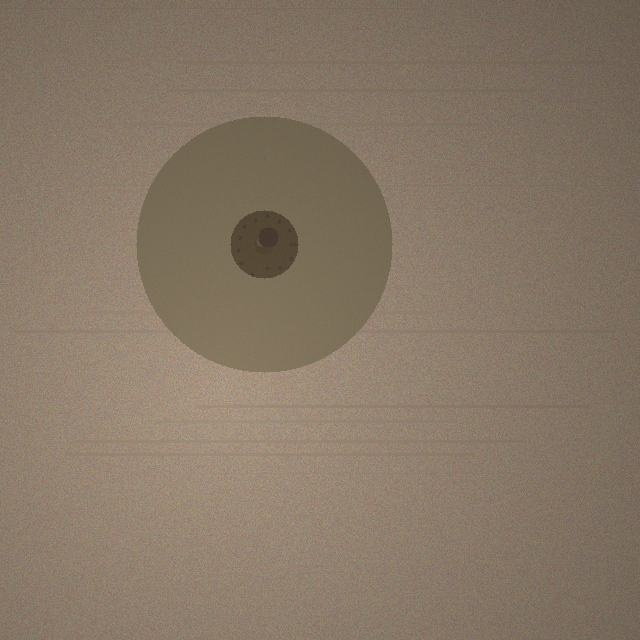cold_weld: (136, 116, 392, 372)
